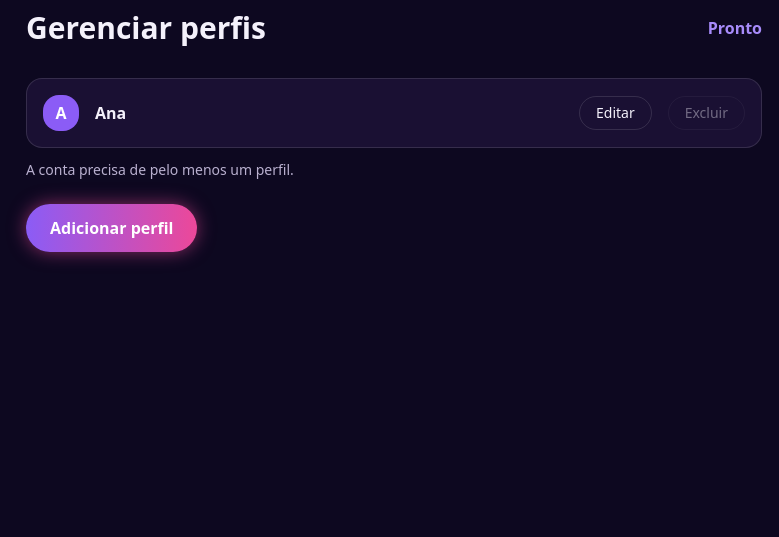
Gerenciar perfis › depois de criar um perfil, pergunta do que a pessoa gosta; Concluir salva os gêneros do novo perfil
Click the button "Adicionar perfil": (112, 228) [26, 204, 198, 252]
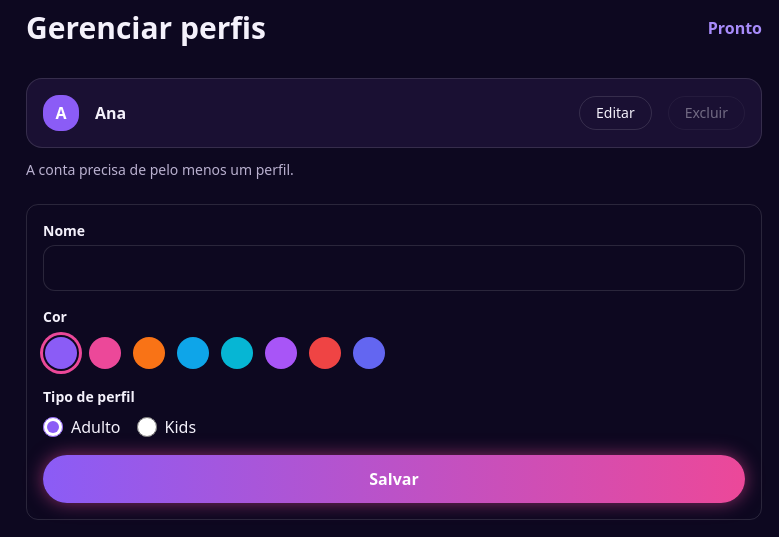
In the field labelled "Nome": (394, 268) [43, 245, 745, 291], type "Bia"
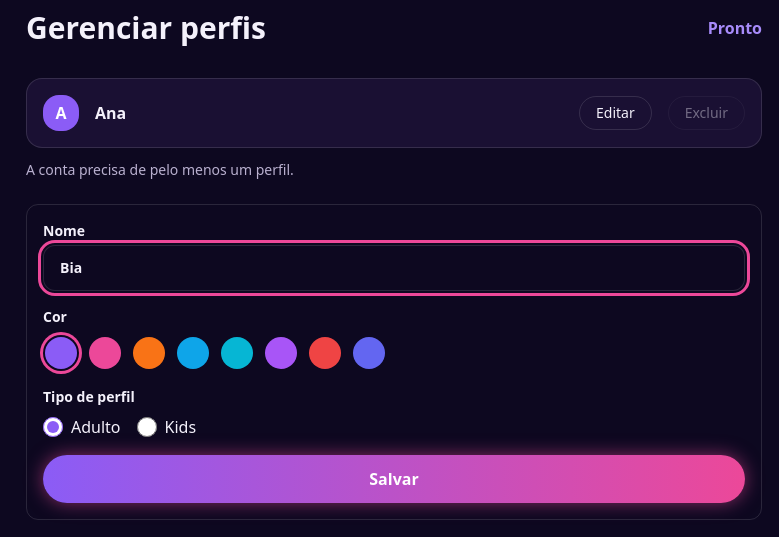
Click the button "Salvar": (394, 479) [43, 455, 745, 503]
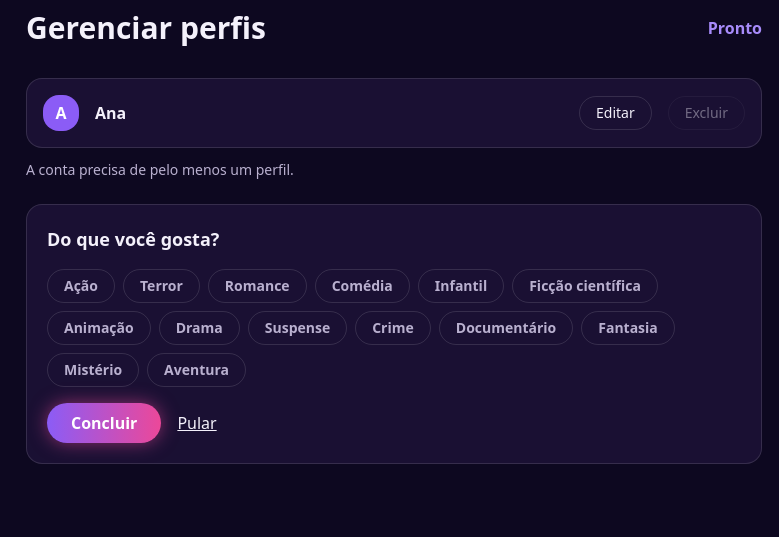
Check: the heading "Do que você gosta?" is shown, box [47, 227, 219, 251]
Click the button "Ação": (81, 286) [47, 269, 115, 303]
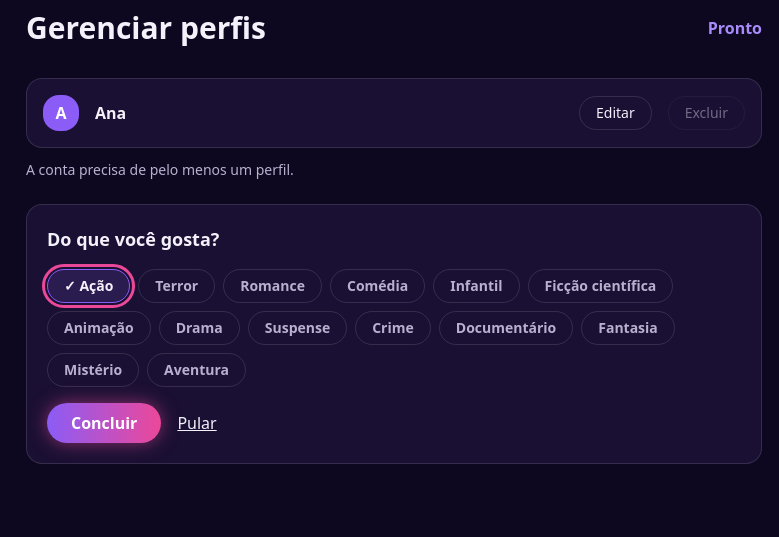
Click the button "Concluir": (104, 423) [47, 403, 161, 443]
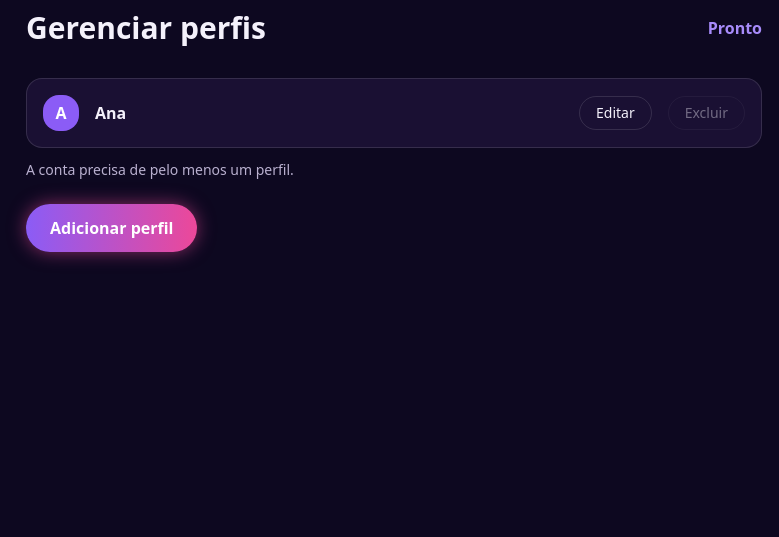
Check: the heading "Do que você gosta?" is gone
